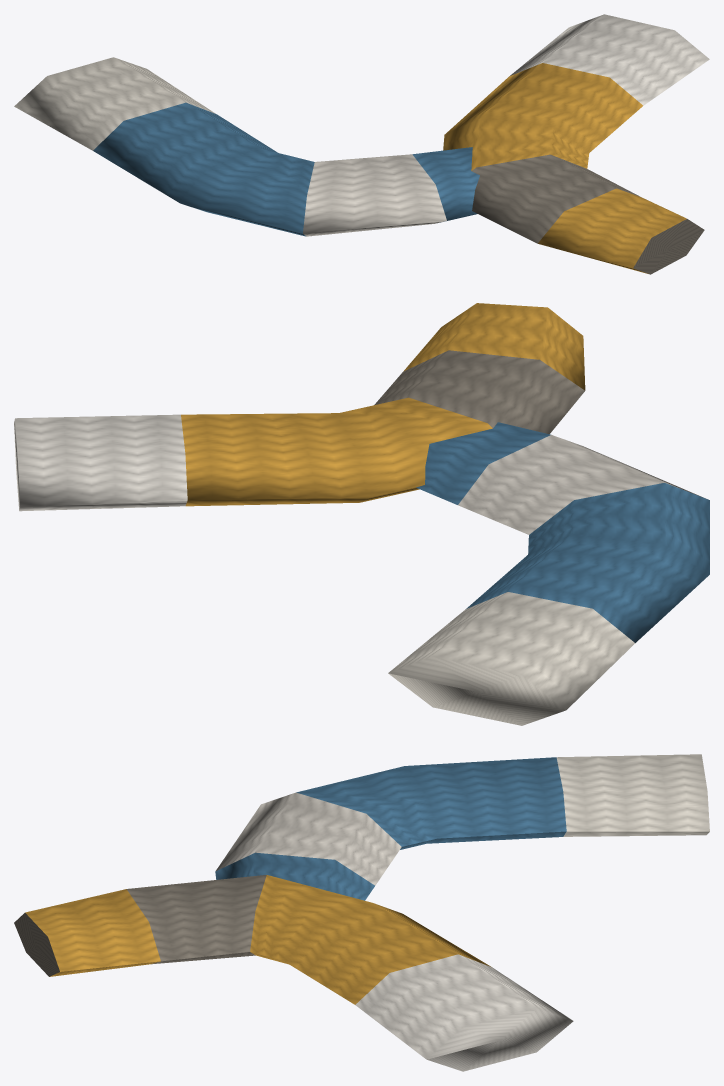
The model's file is odd_socks.glb.
3 renders of one model, top to bottom at view 1: azimuth 30°, elevation 25°; view 2: azimuth 150°, elevation 25°; view 3: azimuth 270°, elevation 25°, orthographic. The views are drawn at different scales.
Visible parts, largest first — view 1: odd_socks; view 2: odd_socks; view 3: odd_socks.
Boxes of the visible parts, left/top/right/bottom form: odd_socks: left=14, top=14, right=709, bottom=274; odd_socks: left=14, top=303, right=709, bottom=725; odd_socks: left=14, top=754, right=709, bottom=1071.
Size of the model in its own units: 0.2962 by 0.0214 by 0.2894.
1 material, 1 textured.
